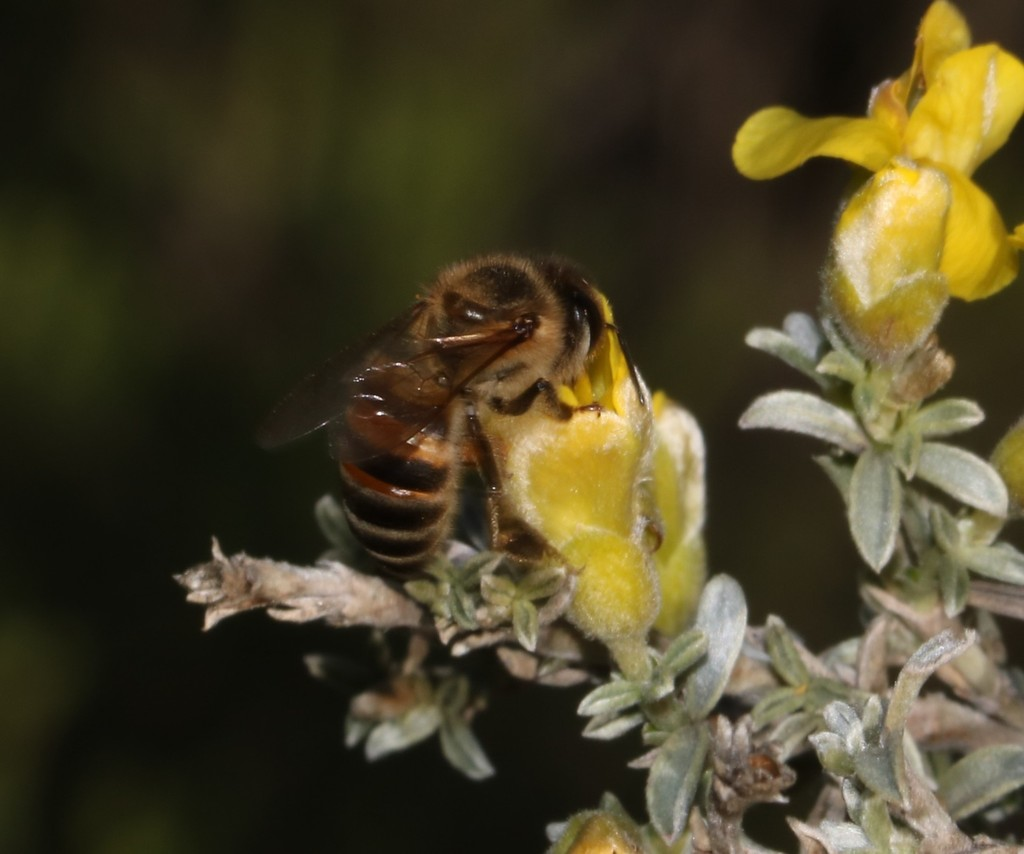not_bumblebee: (265, 248, 651, 585)
